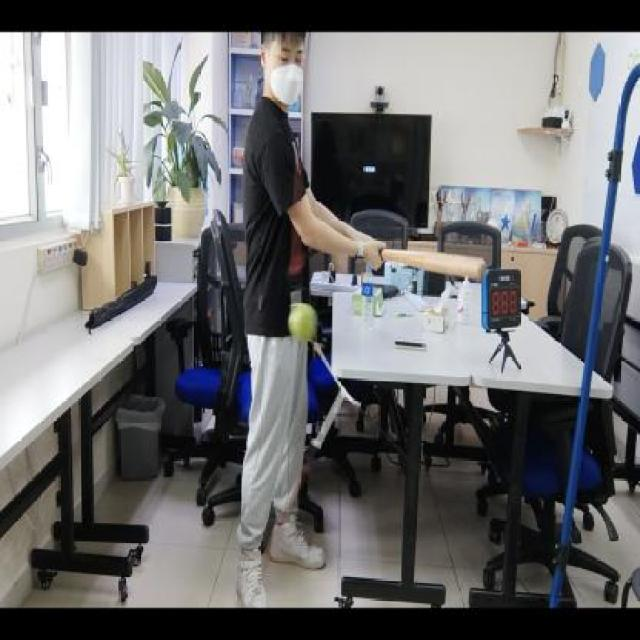baseball: (287, 298, 321, 344)
